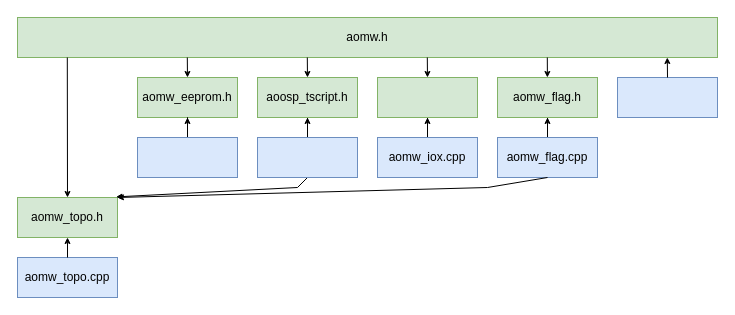
Image size: 735x315. Some labels were removed from this diagram. Here are the shapes that lost their labels. From the top down, the centre of each, then its label:
point 427,97: aomw_iox.h
point 667,97: aomw .cpp
point 187,157: aomw_eeprom.cpp
point 307,157: aoosp_tscript.cpp
